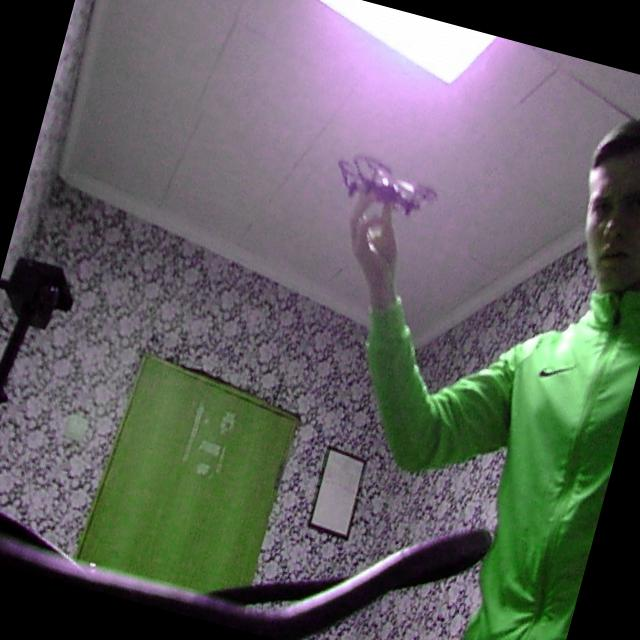drone: (326, 138, 448, 232)
